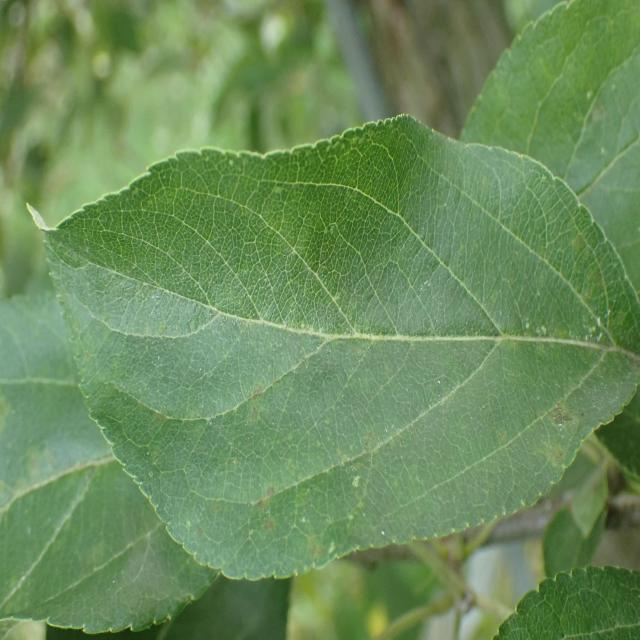scab: (104, 155, 630, 560)
